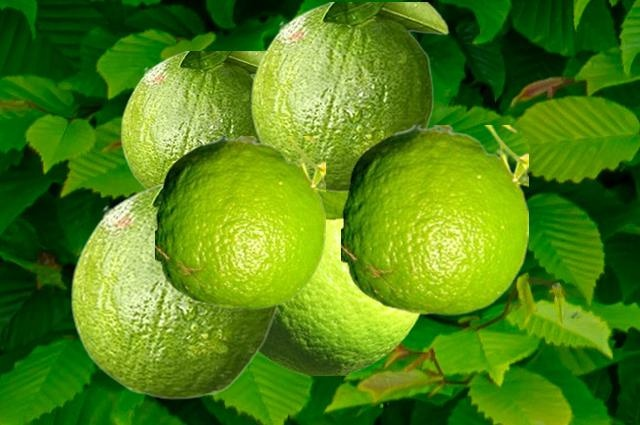dalandan: (70, 184, 280, 398), (250, 2, 448, 191), (341, 125, 527, 314), (258, 192, 422, 374), (155, 136, 324, 308), (120, 51, 263, 188)
